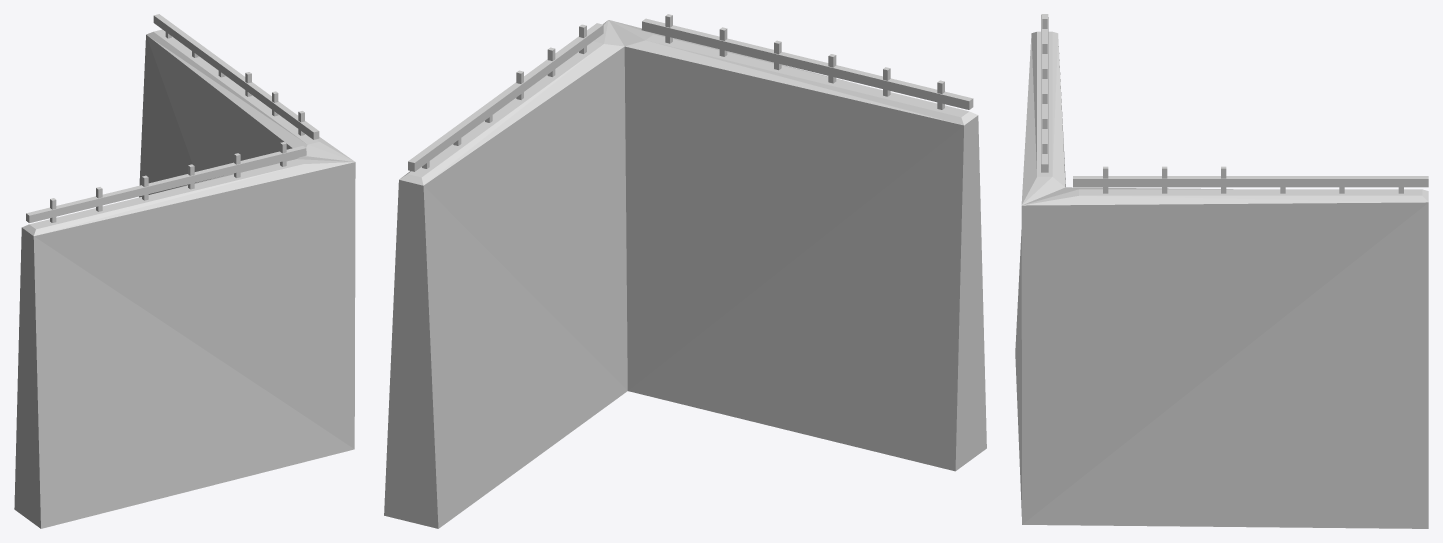
Rendered from Fence_01_Cornor.fbx.
3 renders of one model, left to right at view 1: azimuth 30°, elevation 25°; view 2: azimuth 150°, elevation 25°; view 3: azimuth 270°, elevation 25°, orthographic. The views are drawn at different scales.
Parts seen in each view (by area): view 1: Fence_01_Cornor_Body; view 2: Fence_01_Cornor_Body; view 3: Fence_01_Cornor_Body.
Part boxes in pixels (x1,y1,x2,y2): Fence_01_Cornor_Body: [14, 14, 355, 528]; Fence_01_Cornor_Body: [384, 14, 986, 528]; Fence_01_Cornor_Body: [1015, 14, 1428, 528].
Bounding box in the file's own units: 7.04 × 6.51 × 6.99.
